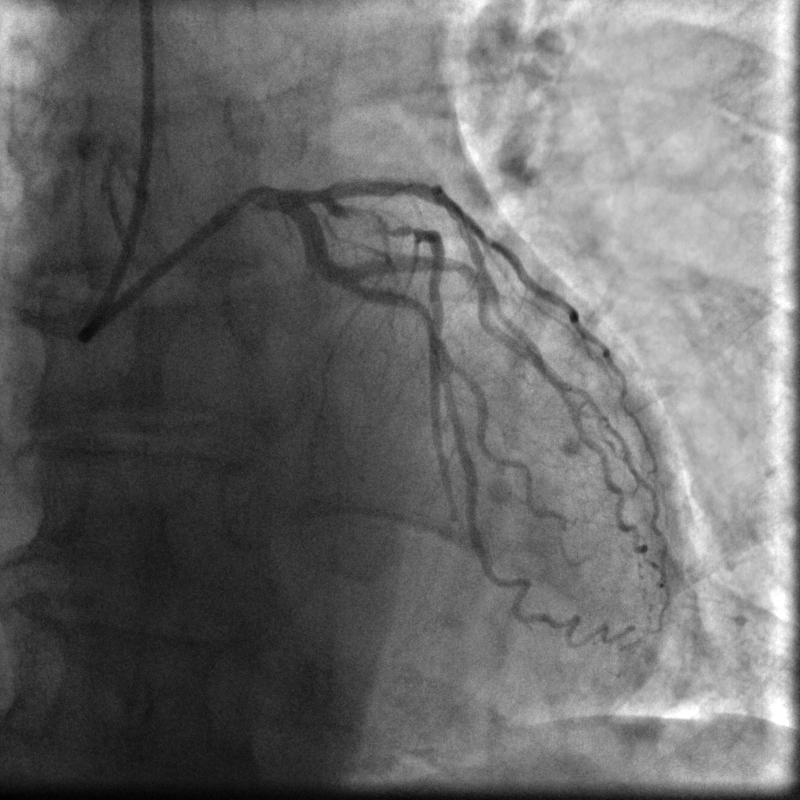Stenosis: (343, 196, 405, 239)
